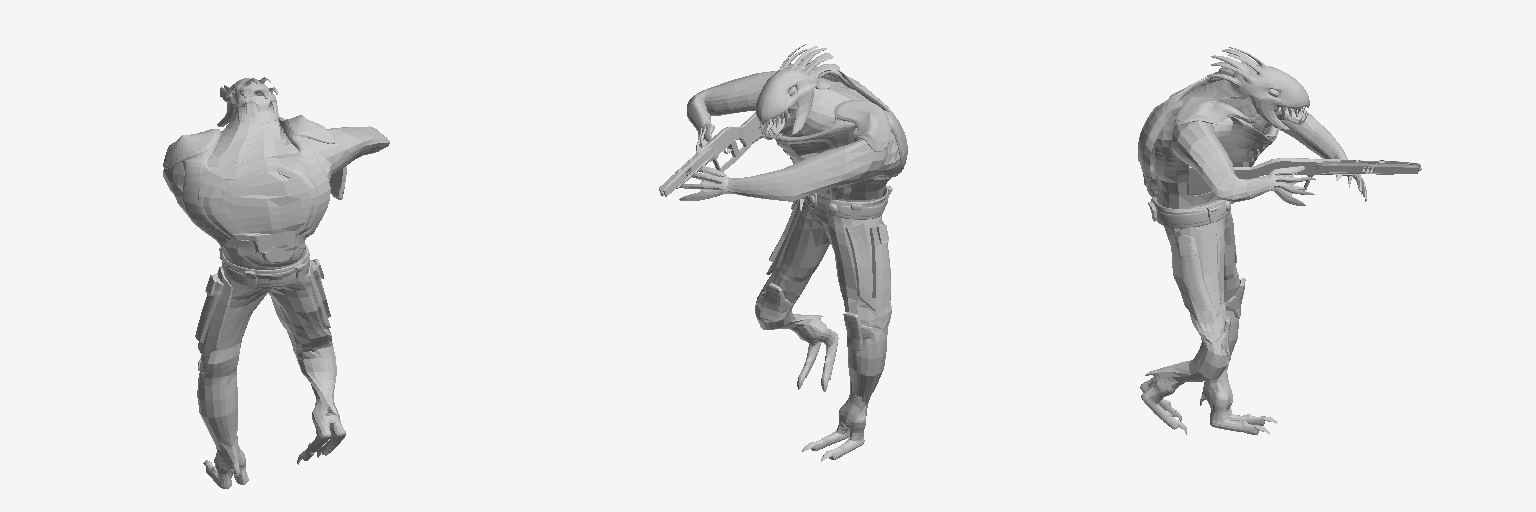
Rendered from AndarEscopeta.0005.obj.
3 renders of one model, left to right at view 1: azimuth 30°, elevation 25°; view 2: azimuth 150°, elevation 25°; view 3: azimuth 270°, elevation 25°, orthographic.
Parts seen in each view (by area): view 1: polySurface108; view 2: polySurface108, escopeta:Cylinder001 polySurface108; view 3: polySurface108, escopeta:Cylinder001 polySurface108.
Boxes of the visible parts, <box> form: polySurface108: <box>163,77,389,488</box>; polySurface108: <box>679,44,907,461</box>; escopeta:Cylinder001 polySurface108: <box>659,112,765,196</box>; polySurface108: <box>1138,47,1366,434</box>; escopeta:Cylinder001 polySurface108: <box>1187,158,1421,195</box>.
Bounding box in the file's own units: 1.41 × 2.54 × 1.66.